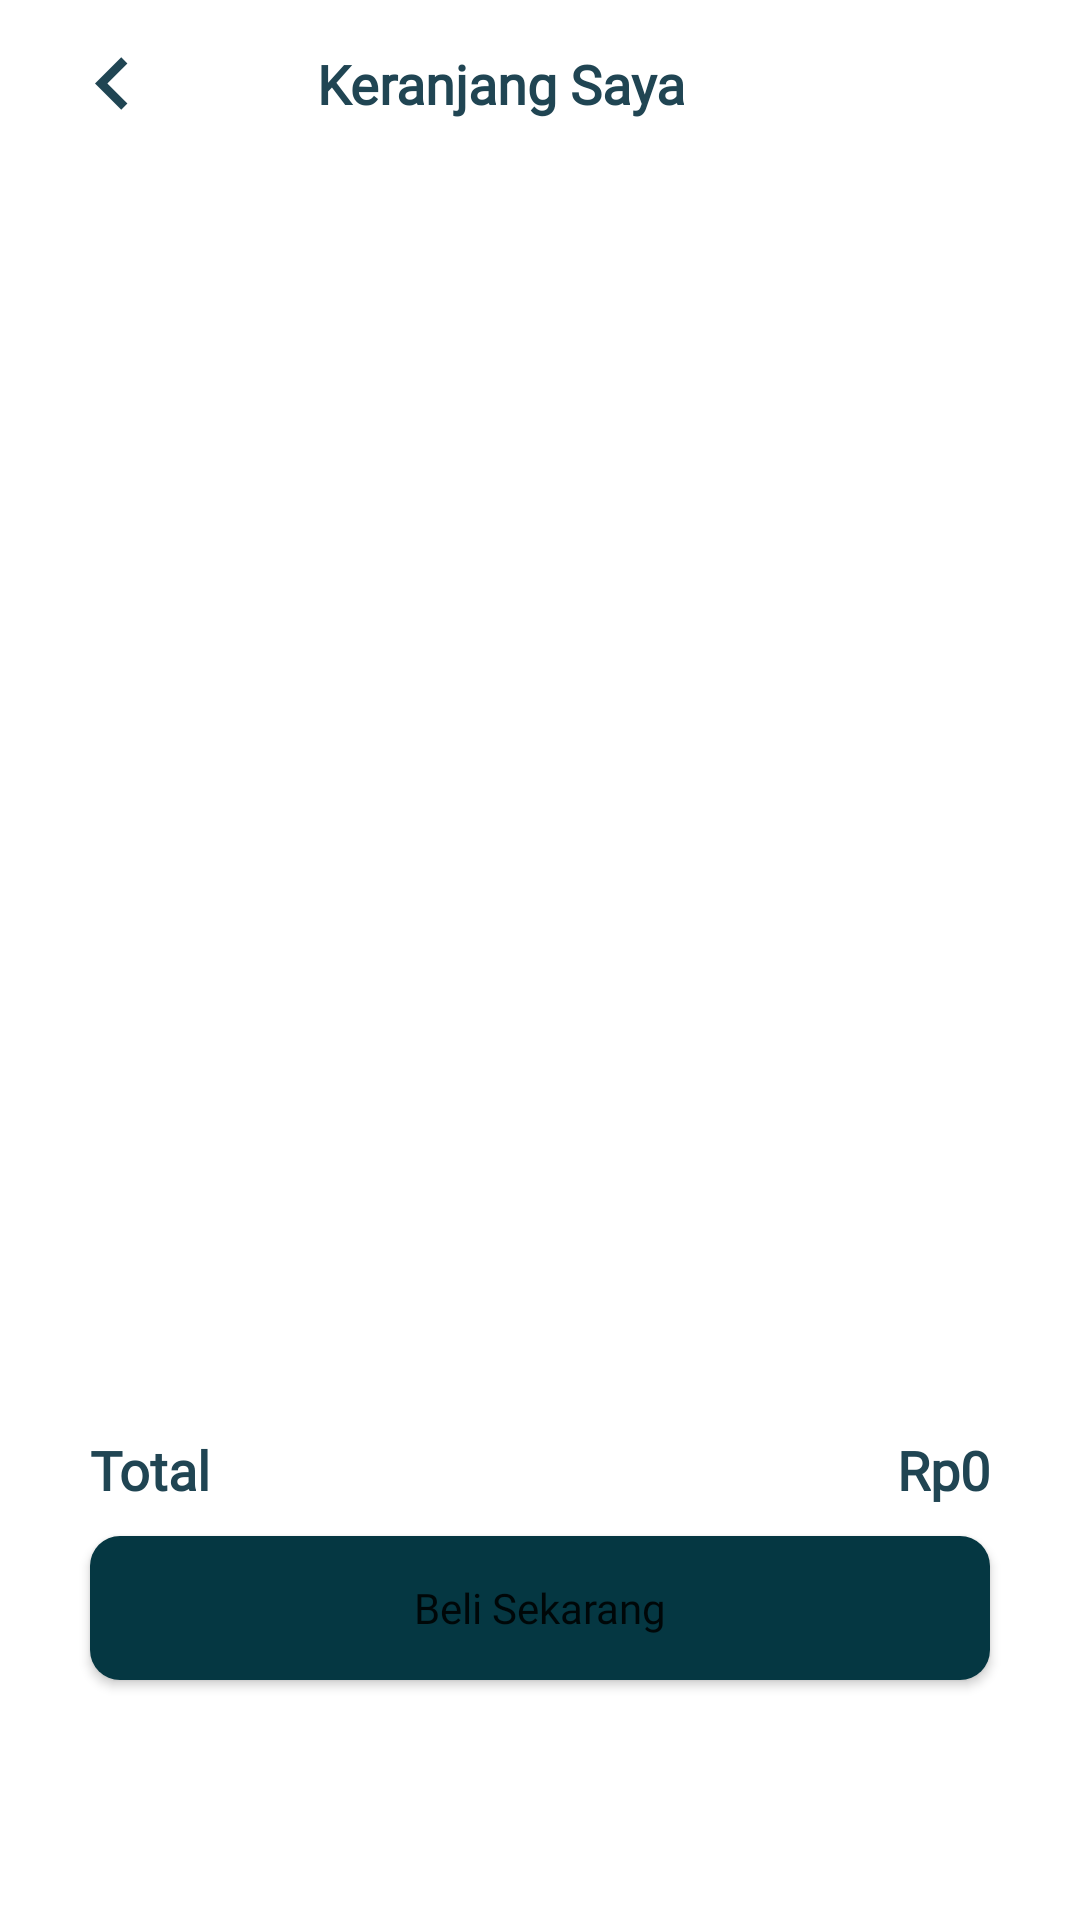

Named icons in this screenshot (1080 x 1920) and their centers, point (x, y):
keyboard arrow left: point (111, 83)
